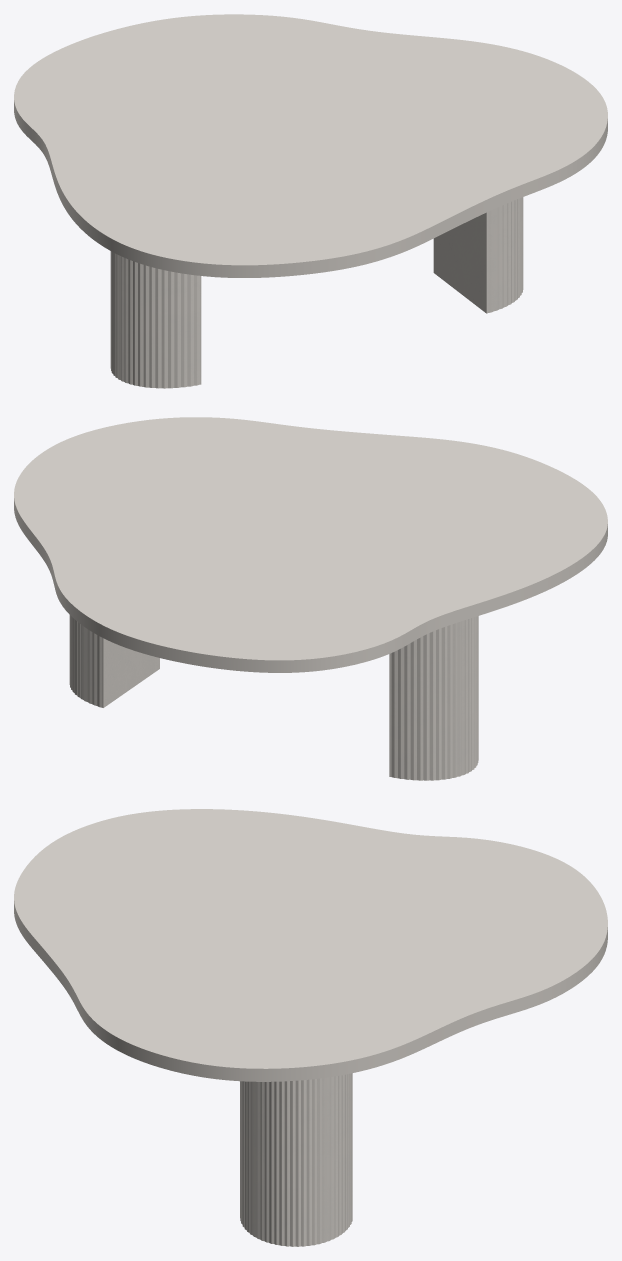
The model's file is pearlwhite_topone_standard_flute.glb.
3 renders of one model, top to bottom at view 1: azimuth 30°, elevation 25°; view 2: azimuth 150°, elevation 25°; view 3: azimuth 270°, elevation 25°, orthographic. The views are drawn at different scales.
Parts seen in each view (by area): view 1: standard_topone, flute; view 2: standard_topone, flute; view 3: standard_topone, flute.
Boxes of the visible parts, x1,y1,x2,y2 form: standard_topone: (14,14,607,277); flute: (110,197,523,388); standard_topone: (14,417,607,672); flute: (69,615,478,780); standard_topone: (14,809,607,1081); flute: (240,1073,352,1246).
Bounding box in the file's own units: 6.83 × 2.5 × 6.6.
Materials: 1 (1 with a texture image).
